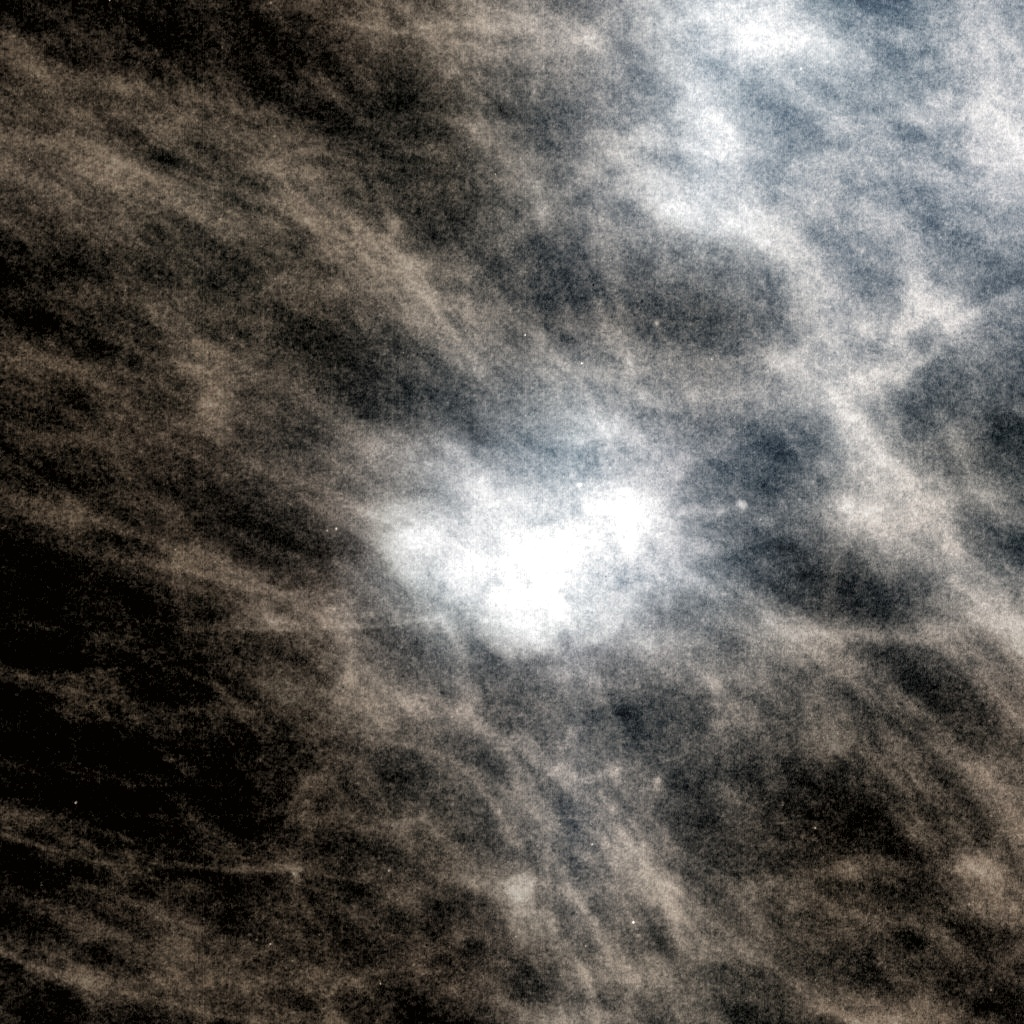tumor: (334, 361, 690, 663)
